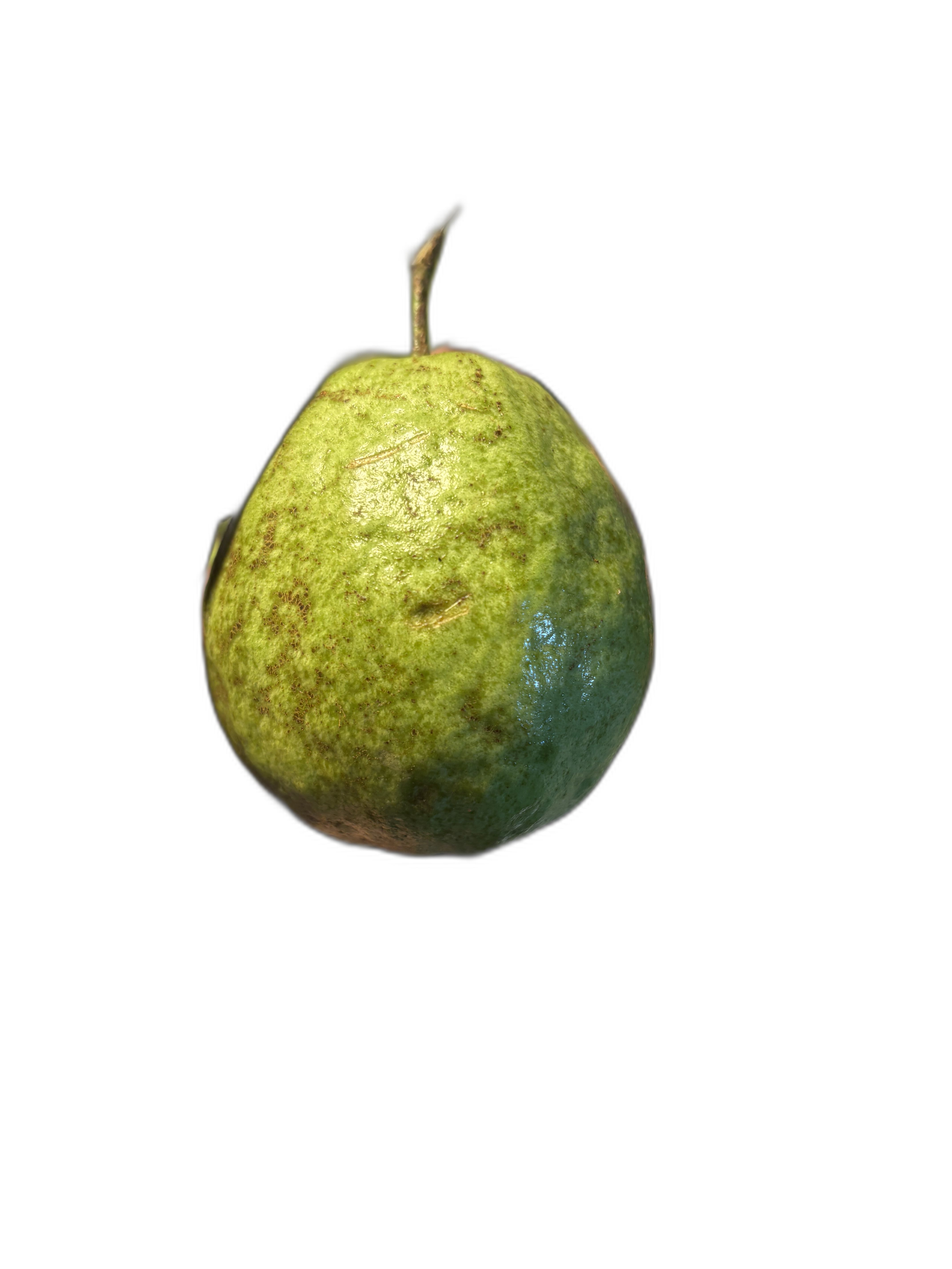guava: (74, 83, 710, 1155)
